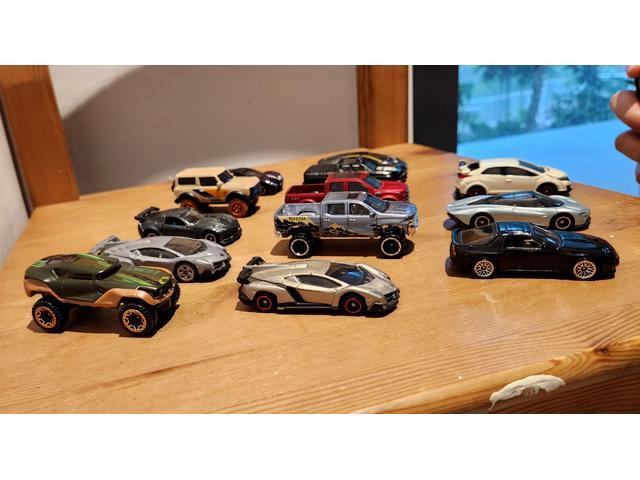toy-car: (24, 252, 181, 337), (450, 221, 620, 280), (273, 191, 420, 258), (236, 257, 400, 316), (88, 236, 232, 283), (447, 191, 592, 231), (170, 167, 262, 216), (456, 158, 572, 196), (134, 205, 242, 245), (284, 172, 410, 203), (303, 157, 408, 181), (228, 168, 285, 196), (318, 150, 407, 165)
